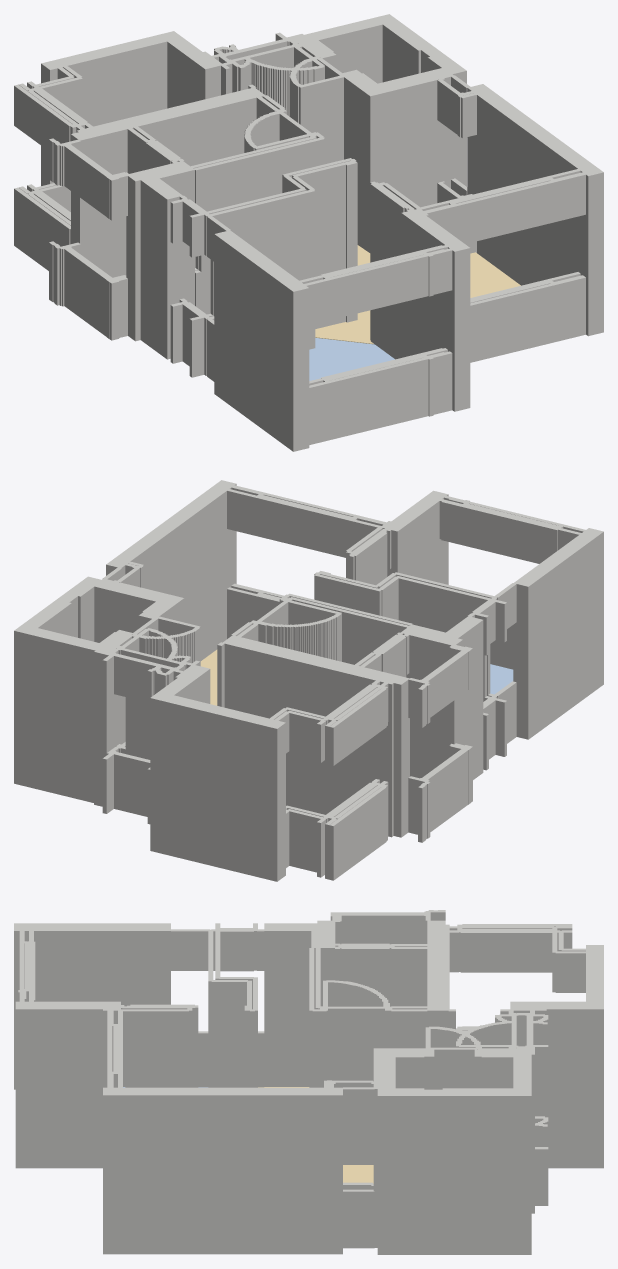
The picture shows the model from 3 angles, top to bottom: view 1: azimuth 30°, elevation 25°; view 2: azimuth 150°, elevation 25°; view 3: azimuth 270°, elevation 25°; orthographic projection. The views are drawn at different scales.
Parts seen in each view (by area): view 1: walls, room:living:4, room:bedroom:5; view 2: walls, room:bedroom:5; view 3: walls, room:living:4.
Boxes of the visible parts, box(x1,y1,x2,y2) form: walls: box(14, 14, 603, 451); room:living:4: box(315, 245, 520, 344); room:bedroom:5: box(309, 338, 394, 380); walls: box(14, 480, 603, 881); room:bedroom:5: box(490, 664, 513, 694); walls: box(14, 910, 603, 1254); room:living:4: box(258, 1087, 373, 1183).
Bounding box in the file's own units: 7.03 × 2.8 × 9.42.
